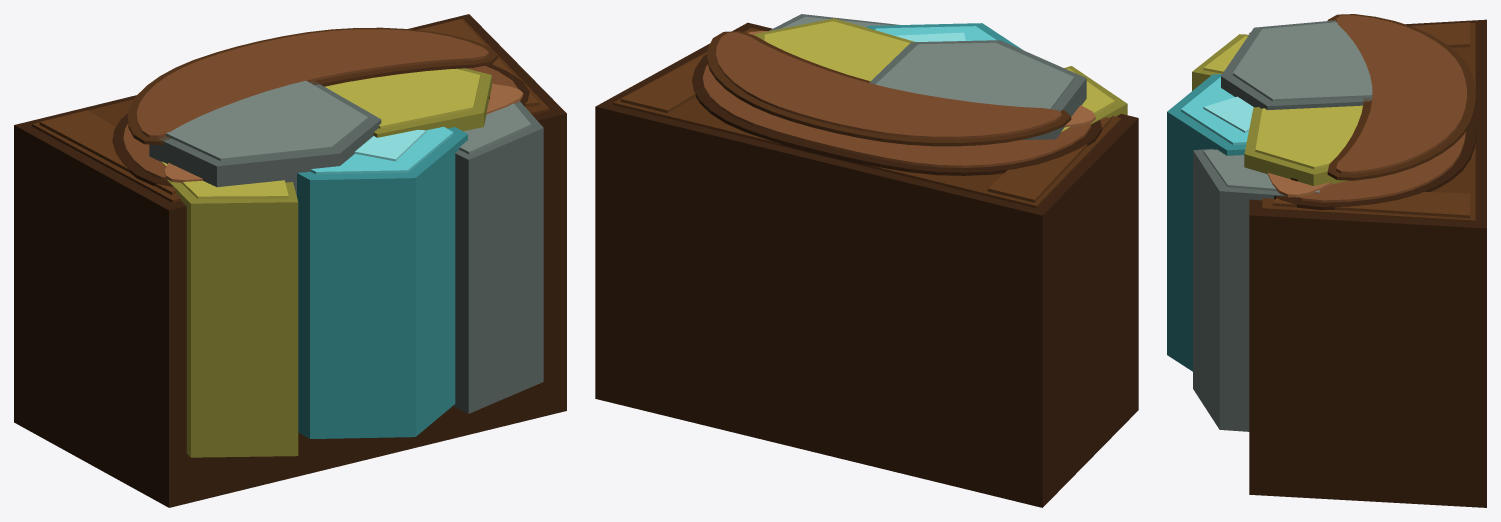
File: bag_minerios.fbx
3 renders of one model, left to right at view 1: azimuth 30°, elevation 25°; view 2: azimuth 150°, elevation 25°; view 3: azimuth 270°, elevation 25°, orthographic. The views are drawn at different scales.
Parts seen in each view (by area): view 1: bag_minerios_mochila; view 2: bag_minerios_mochila; view 3: bag_minerios_mochila.
Boxes of the visible parts, left/top/right/bottom form: bag_minerios_mochila: left=14, top=14, right=566, bottom=507; bag_minerios_mochila: left=595, top=14, right=1138, bottom=507; bag_minerios_mochila: left=1167, top=14, right=1486, bottom=507.
Bounding box in the file's own units: 2.85 × 1.98 × 1.85.
Materials: 1 (1 with a texture image).
